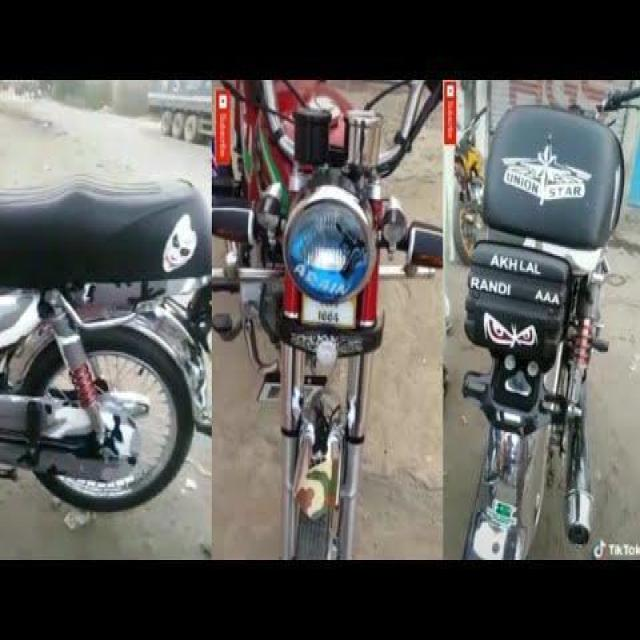motorcycle: (215, 81, 433, 552), (0, 71, 205, 554), (460, 94, 620, 553)
